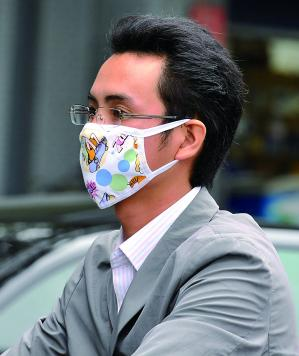OK: (77, 89, 183, 211)
